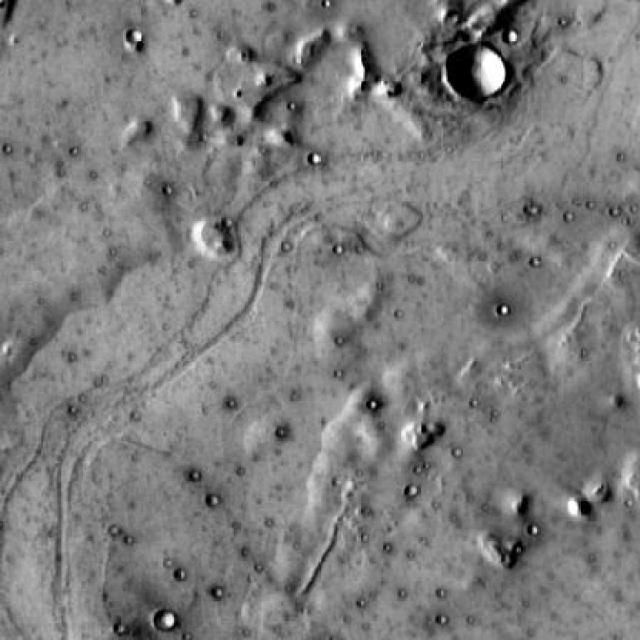crater: (443, 42, 506, 100), (154, 611, 175, 631)
